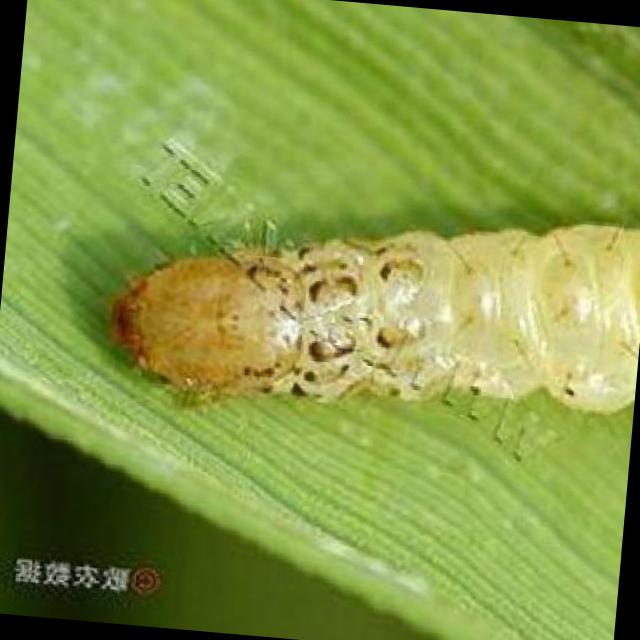leaf-folder: (106, 170, 640, 427)
